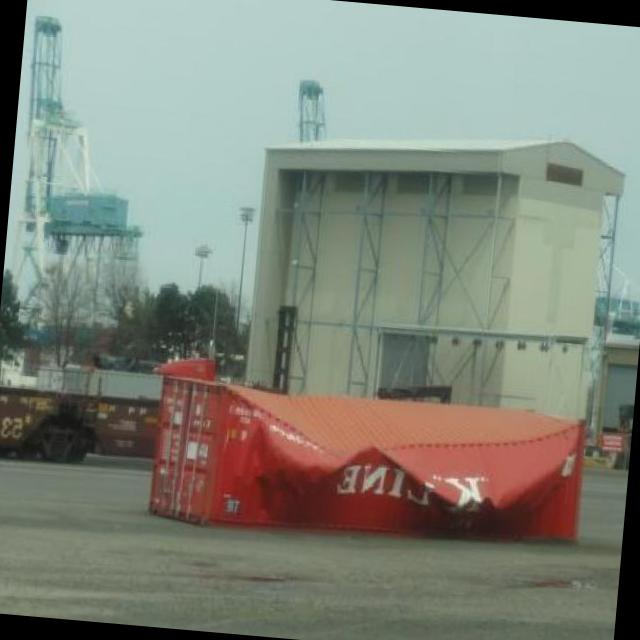Deframe_or_Dent: (216, 389, 583, 551)
